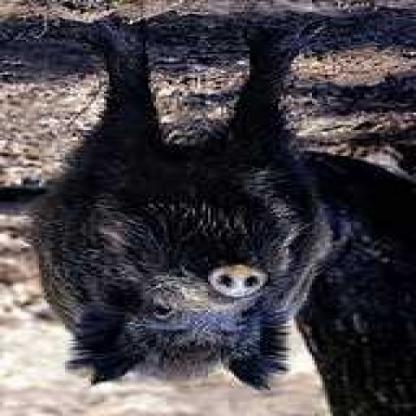boar: (28, 31, 369, 400)
